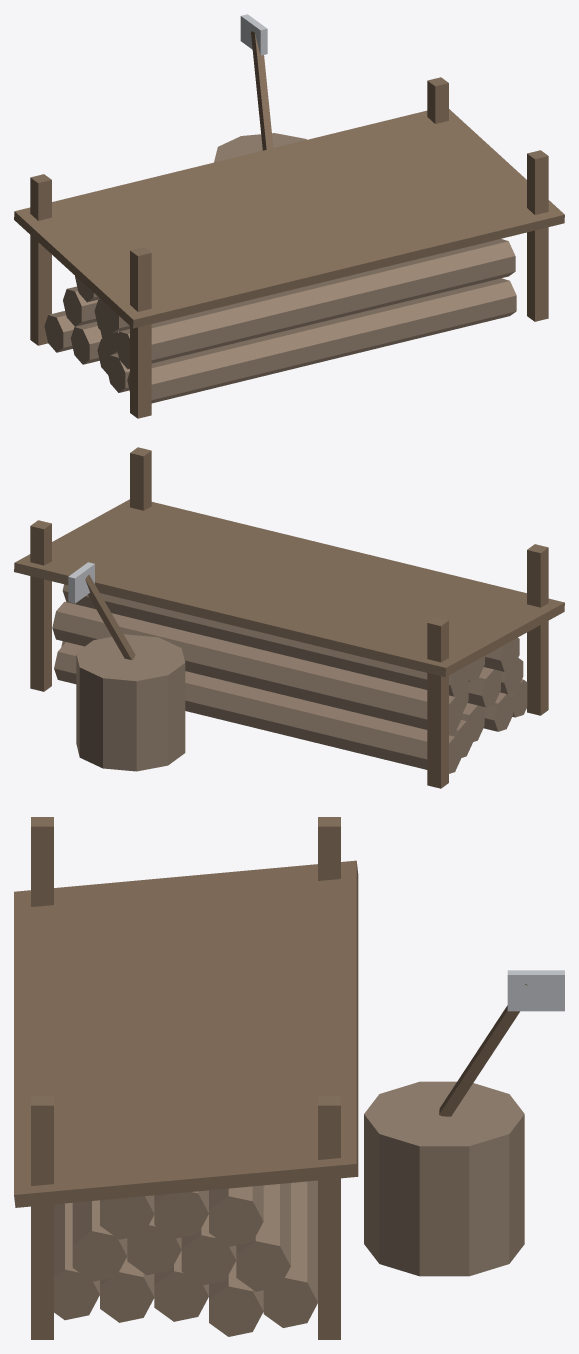
Rendered from woodpile.glb.
3 renders of one model, top to bottom at view 1: azimuth 30°, elevation 25°; view 2: azimuth 150°, elevation 25°; view 3: azimuth 270°, elevation 25°, orthographic. The views are drawn at different scales.
Visible parts, largest first — view 1: woodpile; view 2: woodpile; view 3: woodpile.
Boxes of the visible parts, bbox=[...] form: woodpile: bbox=[14, 14, 564, 418]; woodpile: bbox=[14, 447, 564, 788]; woodpile: bbox=[14, 817, 564, 1339].
Size of the model in its own units: 2.5 by 1.09 by 1.92.
